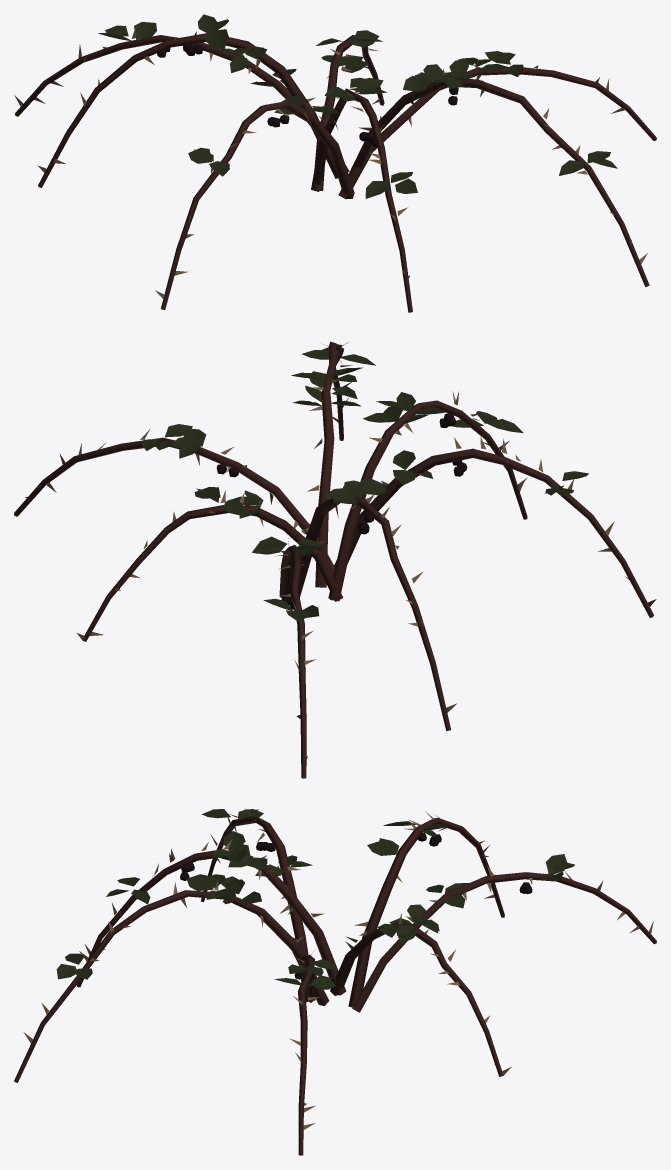
File: bramble.glb
3 views of the same model, one above another, from view 1: azimuth 30°, elevation 25°; view 2: azimuth 150°, elevation 25°; view 3: azimuth 270°, elevation 25° (orthographic). The views are drawn at different scales.
Visible parts, largest first — view 1: Bramble_mesh; view 2: Bramble_mesh; view 3: Bramble_mesh.
Part boxes in pixels (<box>): Bramble_mesh: <box>14,14,656,312</box>; Bramble_mesh: <box>14,341,656,778</box>; Bramble_mesh: <box>14,808,656,1155</box>.
Bounding box in the file's own units: 1.7 × 0.4963 × 1.79.
